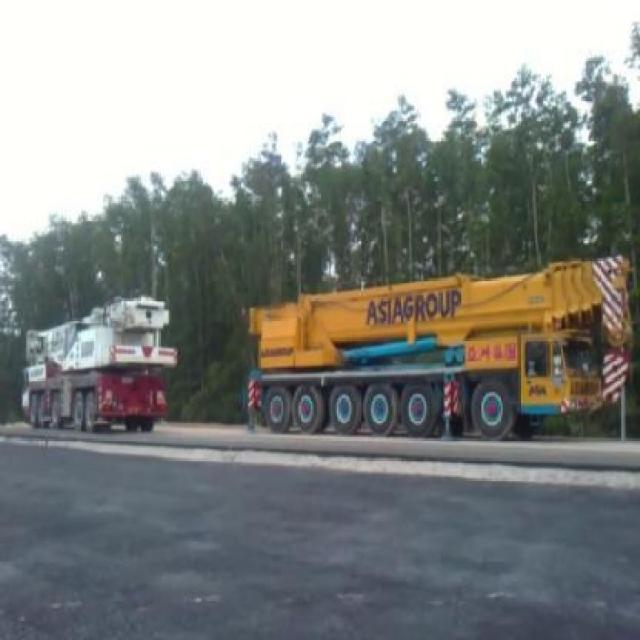Mobile Crane: (244, 227, 627, 401), (22, 266, 176, 392)
